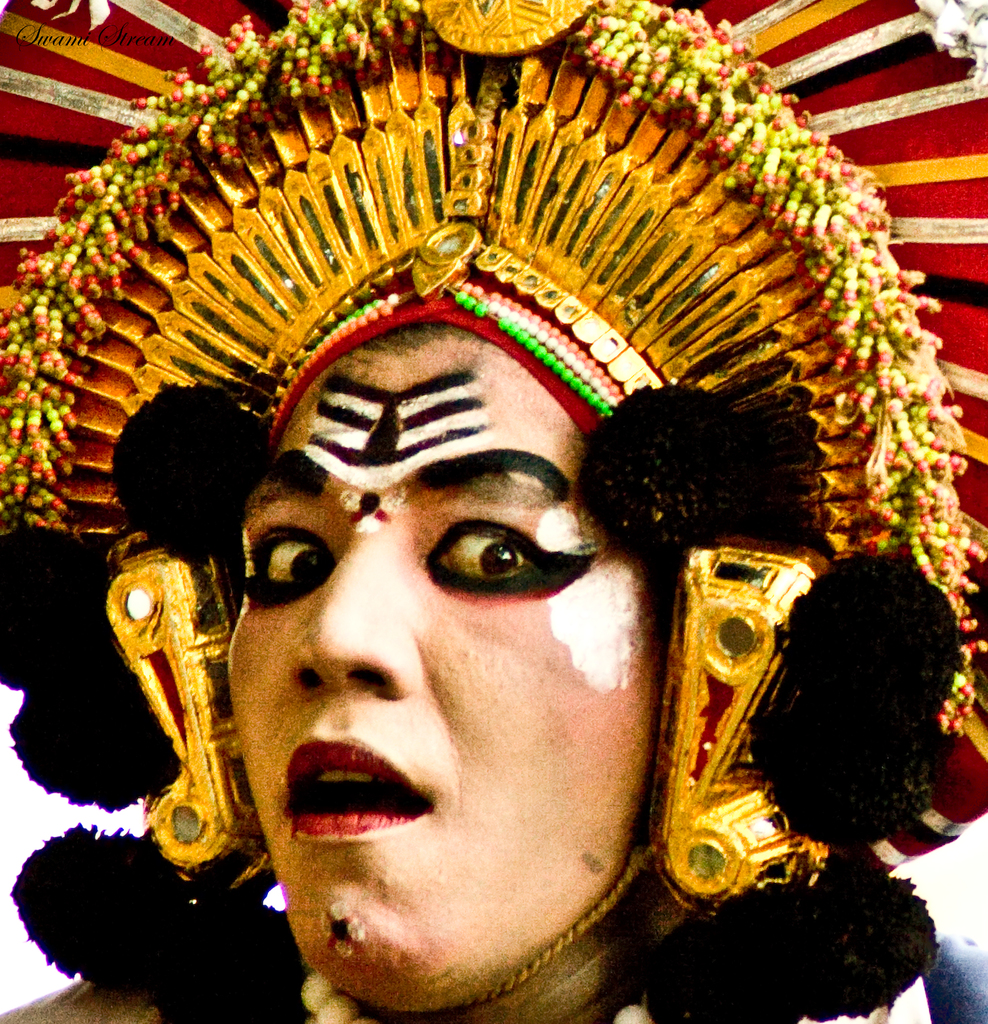Person: (0, 0, 988, 1023)
